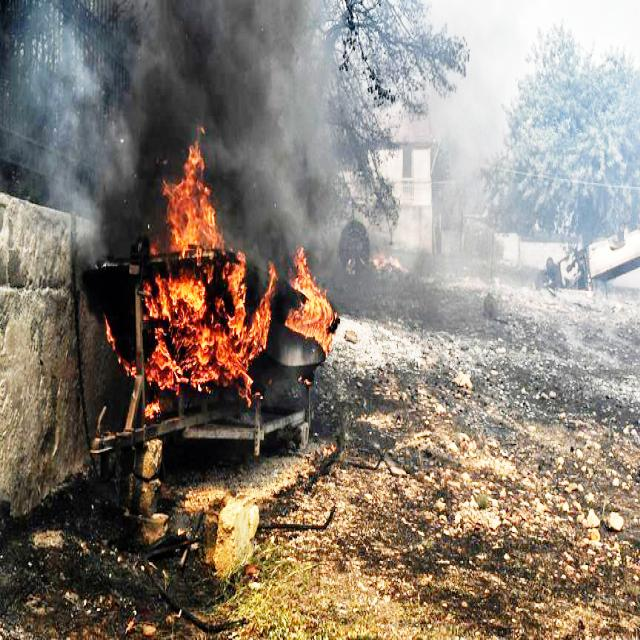api: (143, 276, 272, 391), (288, 246, 333, 356), (171, 162, 219, 255)
asap: (127, 2, 357, 150), (436, 17, 508, 235), (38, 79, 128, 245)
